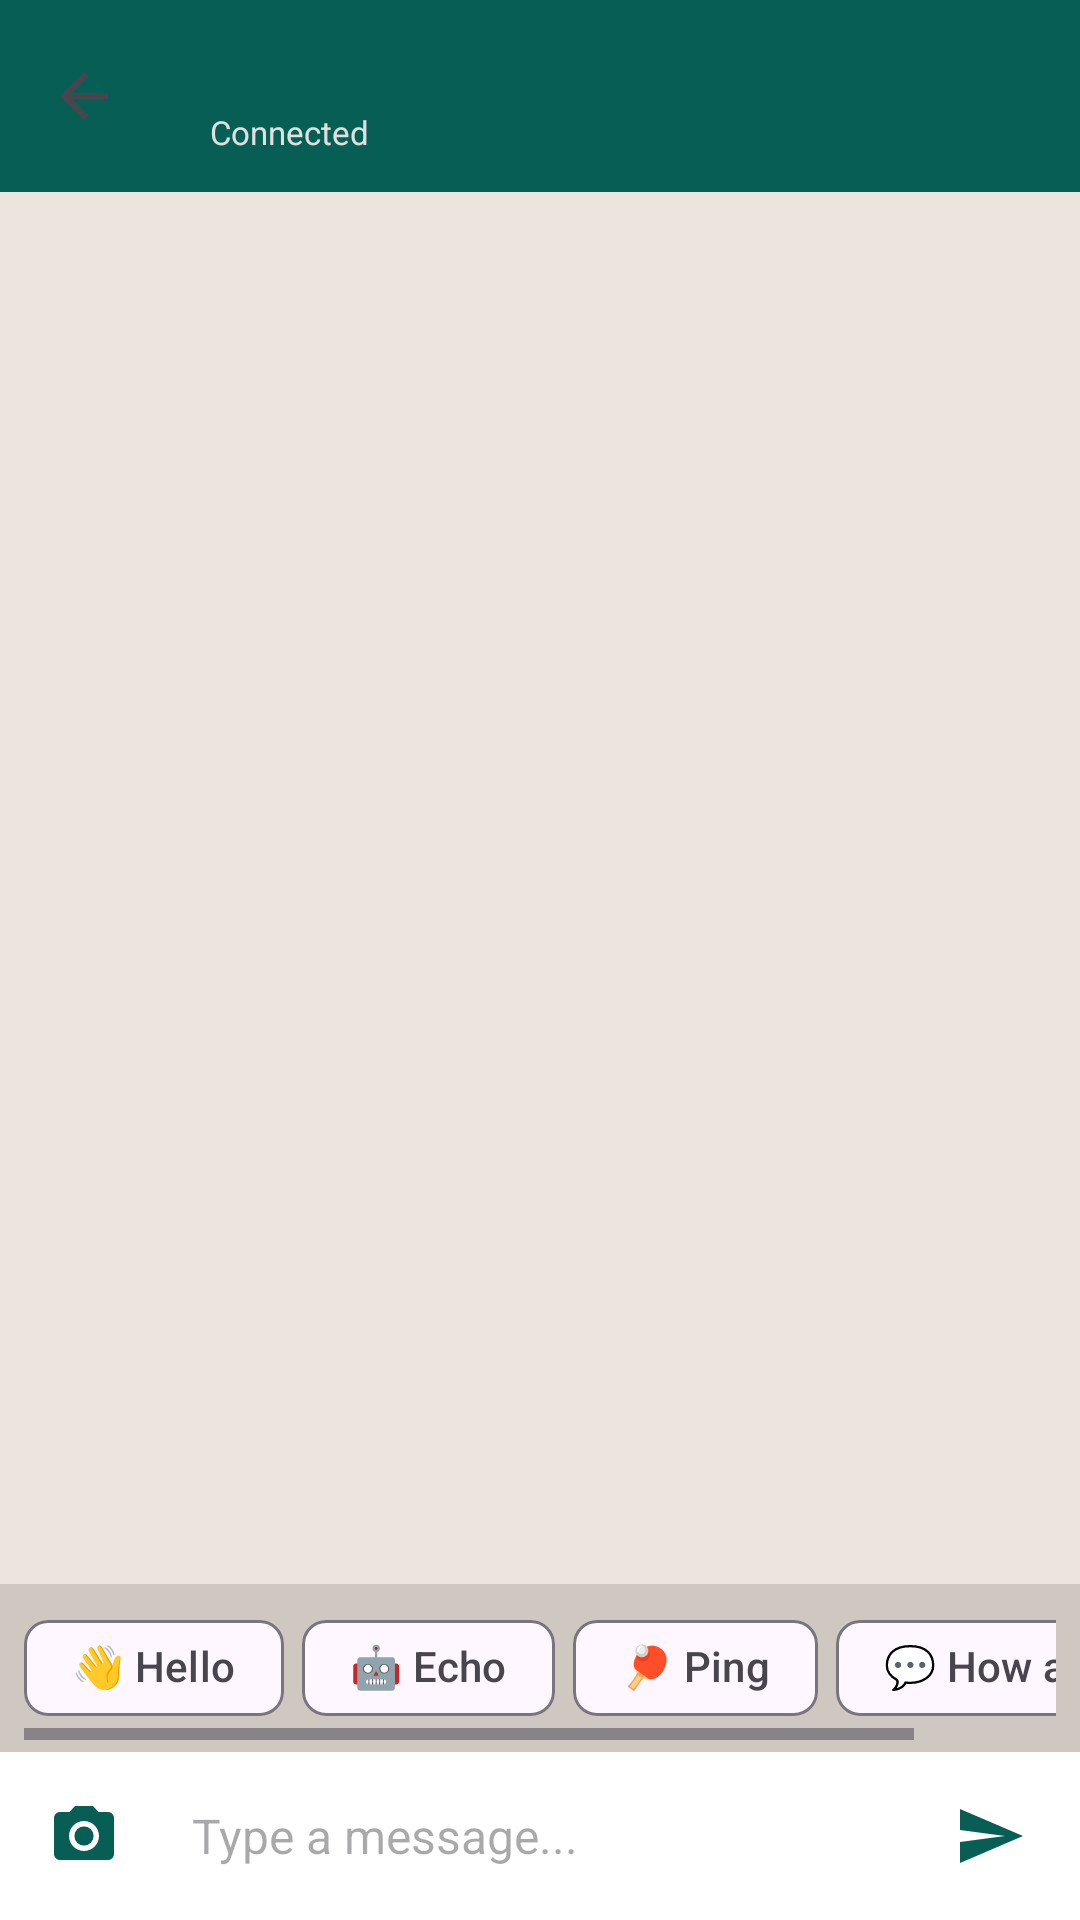

Point at icon controls on the screen. Image size 1080w x 1920h, points as [x,y].
Attach Photo: [84,1833]
Send Message: [991,1836]
